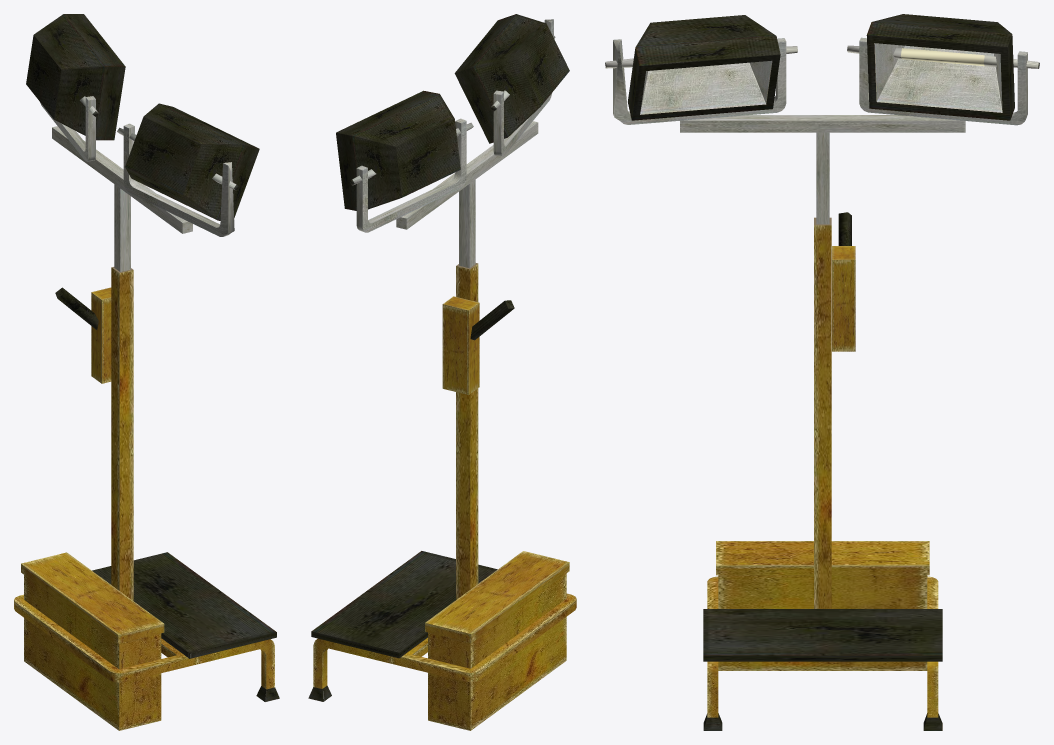
Rendered from light_floodlight02_off.glb.
The picture shows the model from 3 angles, left to right: view 1: azimuth 30°, elevation 25°; view 2: azimuth 150°, elevation 25°; view 3: azimuth 270°, elevation 25°; orthographic projection. The views are drawn at different scales.
Visible parts, largest first — view 1: 0_floodlighthousing; view 2: 0_floodlighthousing; view 3: 0_floodlighthousing, 1_floodlightbulboff.
Part boxes in pixels (left/top/right/bottom): 0_floodlighthousing: left=14, top=14, right=279, bottom=730; 0_floodlighthousing: left=308, top=14, right=576, bottom=730; 0_floodlighthousing: left=605, top=14, right=1039, bottom=730; 1_floodlightbulboff: left=901, top=48, right=984, bottom=66.
Size of the model in its own units: 0.6044 by 2.13 by 1.28.
2 materials, 2 textured.
